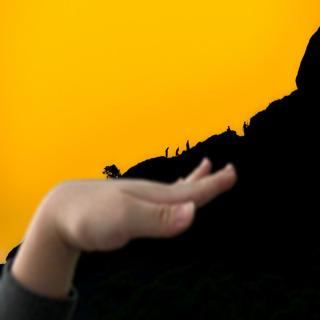Wait: (29, 156, 248, 263)
